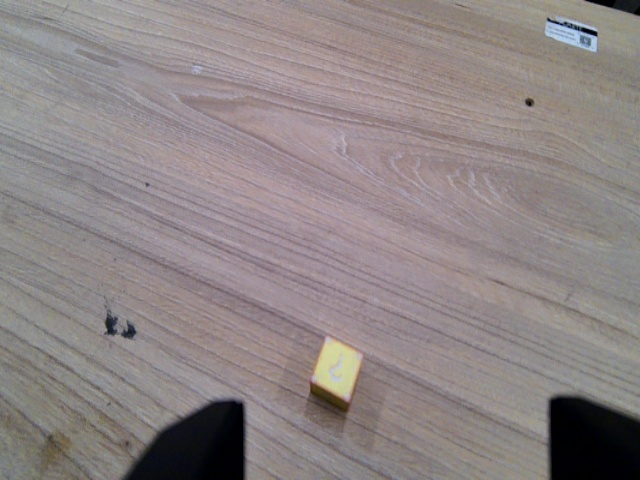lucky: (305, 335, 369, 413)
